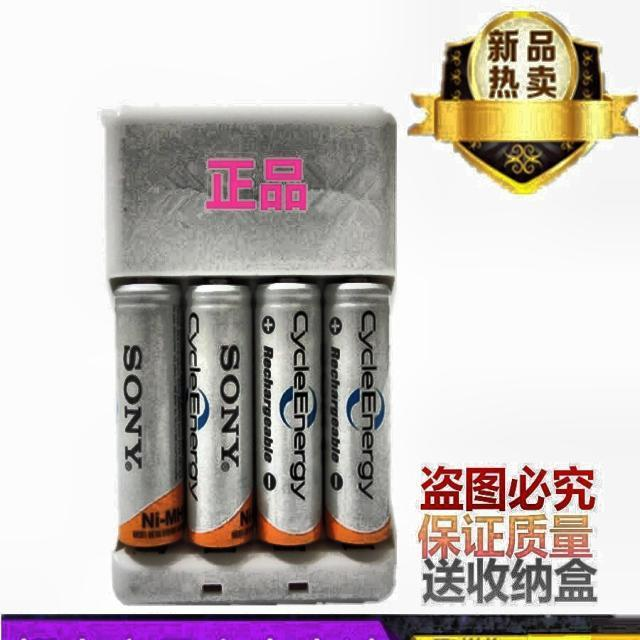battery: (114, 284, 185, 548), (185, 284, 252, 547), (324, 283, 391, 545), (255, 283, 322, 545)
